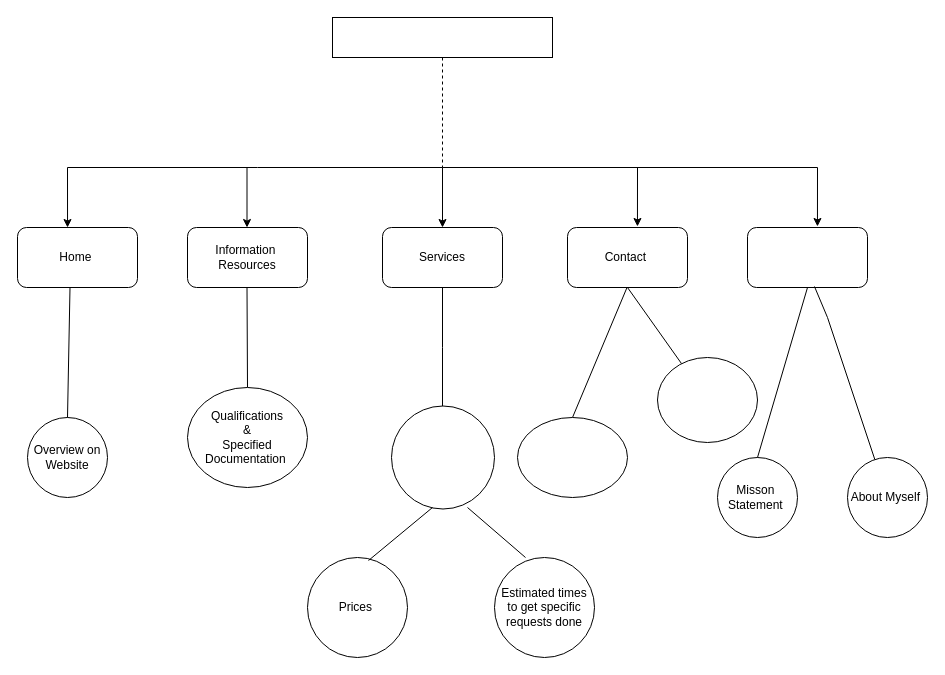
This 945x675 diagram has some shape labels left out. The box of each missing label's shape, as (x1, y1, x2, y2) in pixels:
About Me: (746, 226, 868, 288)
Availability Hours: (656, 356, 758, 442)
Contact Information: (516, 416, 628, 498)
DT Tax Solutions Website: (332, 16, 552, 168)
What I am willing to do for you: (390, 405, 494, 509)
